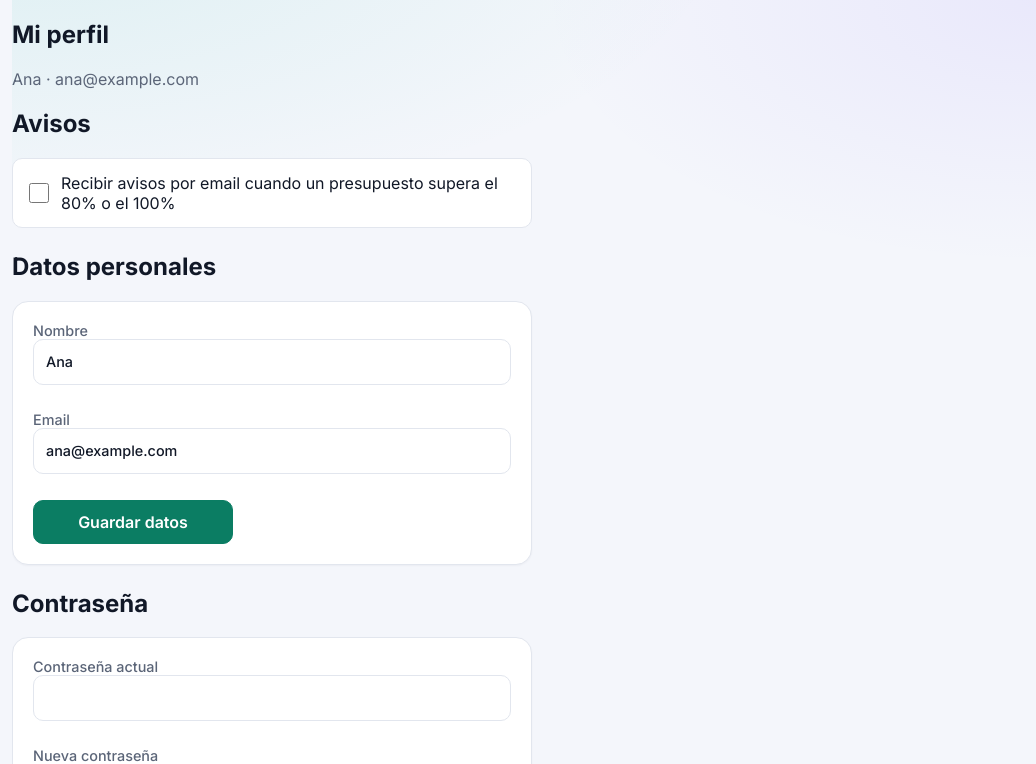
PerfilView › muestra el mensaje de error de la API
This screenshot has width=1036, height=764.
Type "mala" into the password field named "passwordActual" at (272, 698), box x1=33 y1=675 x2=511 y2=721
(page scrolled)
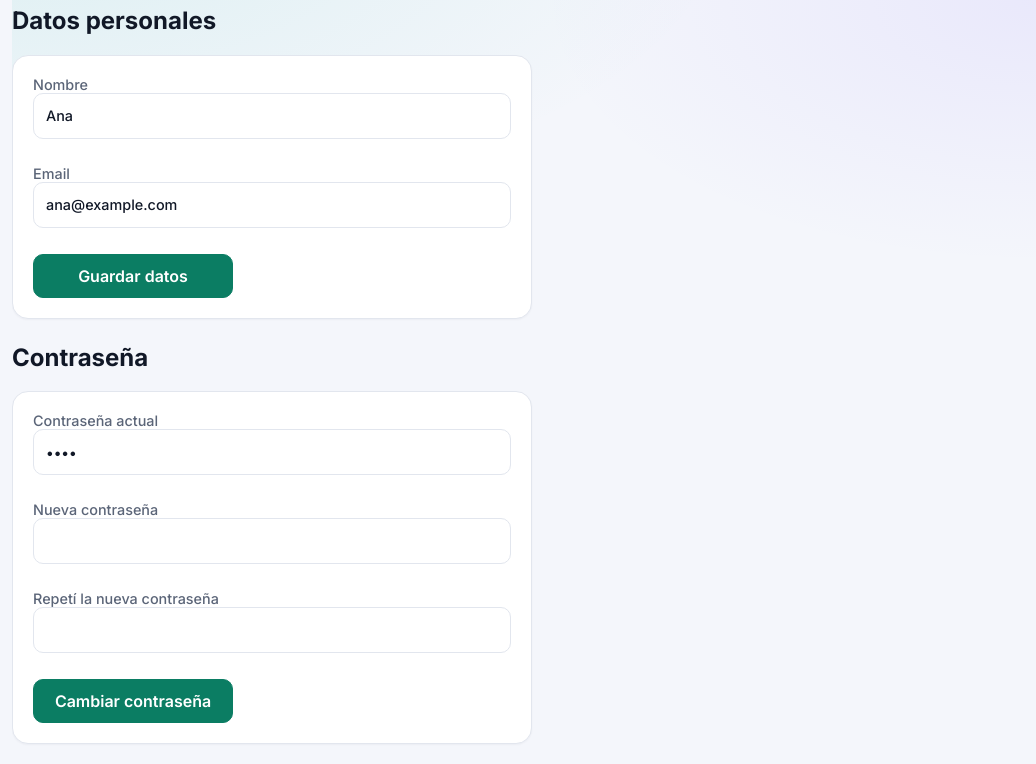
Type "nueva-clave-1" into the password field named "passwordNueva" at (272, 541), box x1=33 y1=518 x2=511 y2=564
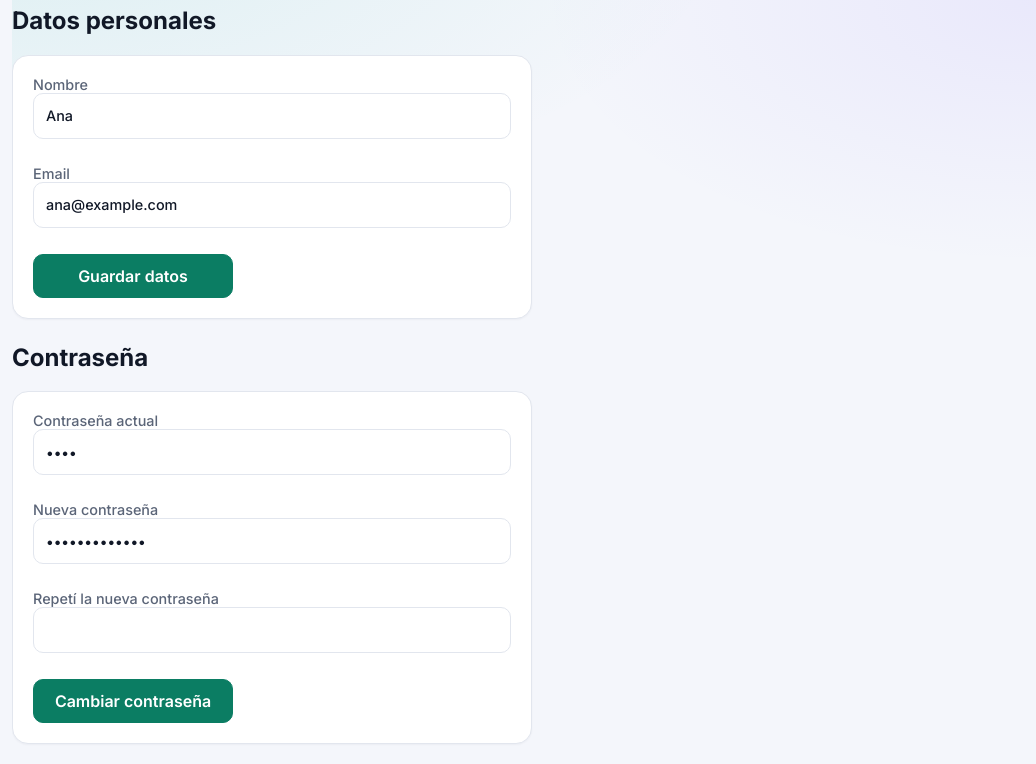
Type "nueva-clave-1" into the password field named "passwordConfirmacion" at (272, 630), box x1=33 y1=607 x2=511 y2=653
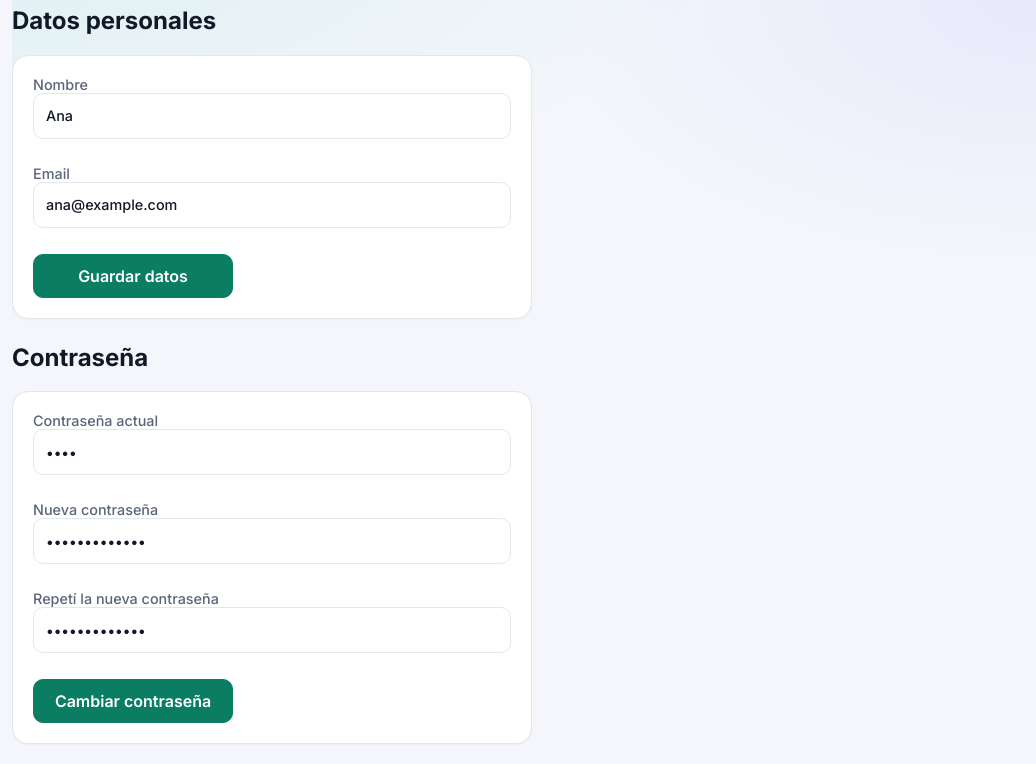
Submit the form named "Cambiar contraseña", box x1=12 y1=391 x2=532 y2=744
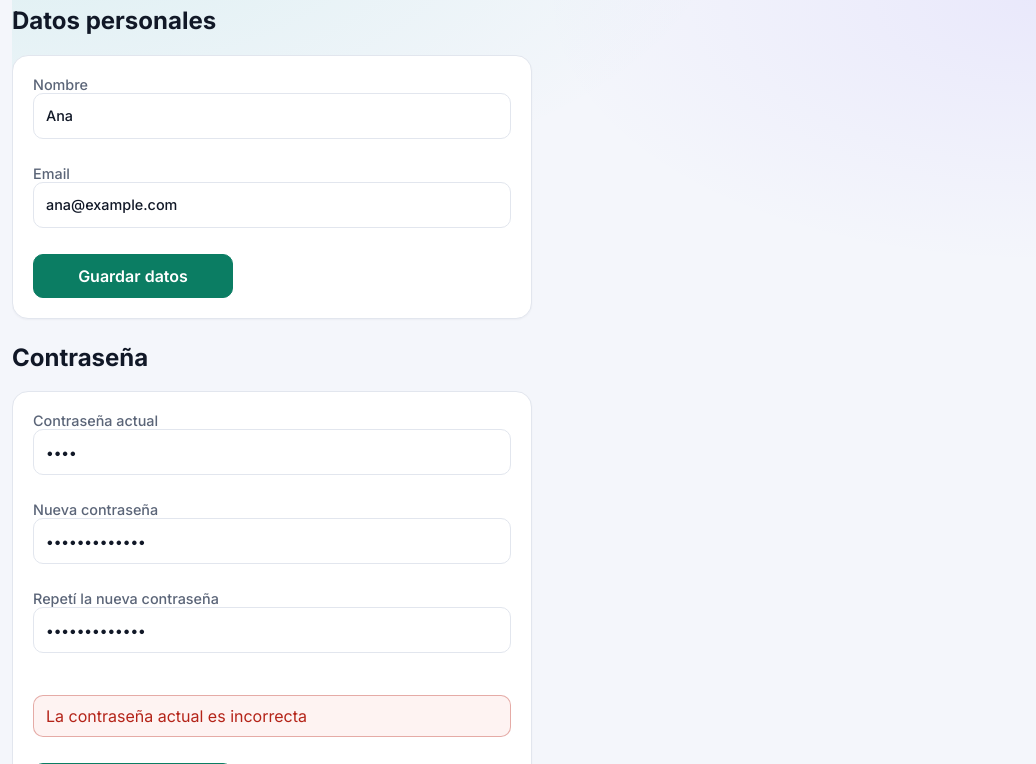
Expected: the message "La contraseña actual es incorrecta" is shown, x1=33 y1=695 x2=511 y2=737
